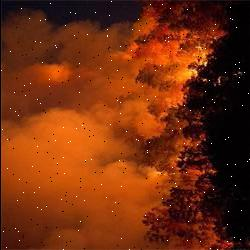fire: (162, 26, 220, 103)
